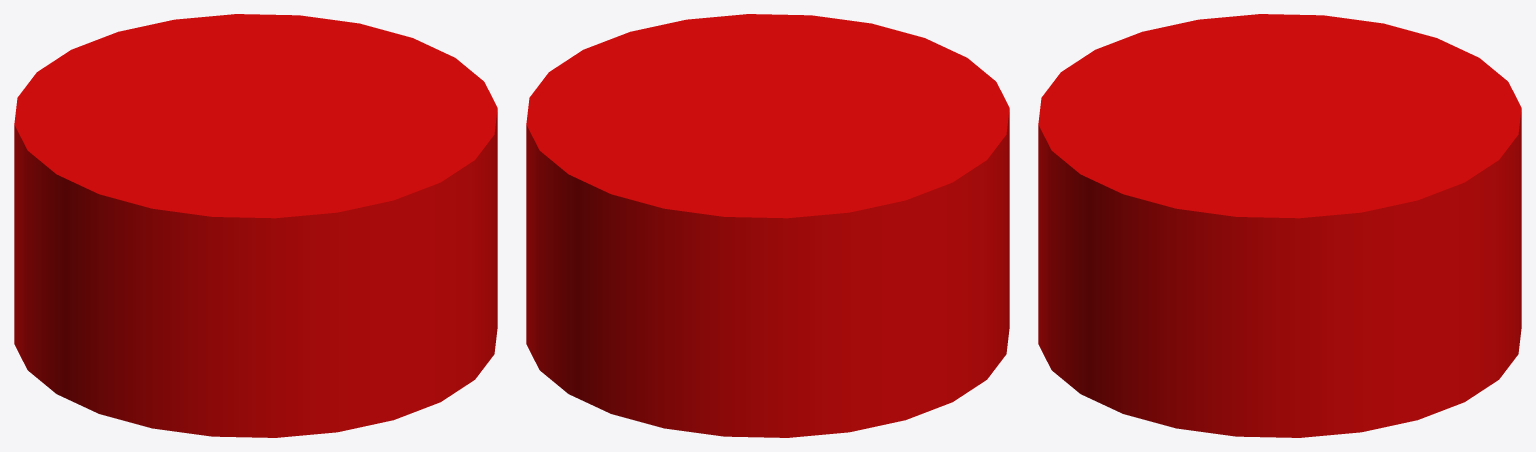
The model's file is Kurunt.glb.
The picture shows the model from 3 angles, left to right: view 1: azimuth 30°, elevation 25°; view 2: azimuth 150°, elevation 25°; view 3: azimuth 270°, elevation 25°; orthographic projection.
Visible parts, largest first — view 1: Geom3D; view 2: Geom3D; view 3: Geom3D.
Part boxes in pixels (<box>): Geom3D: <box>14,14,497,437</box>; Geom3D: <box>526,14,1009,437</box>; Geom3D: <box>1038,14,1521,437</box>.
Bounding box in the file's own units: 1.99 × 1 × 1.99.
